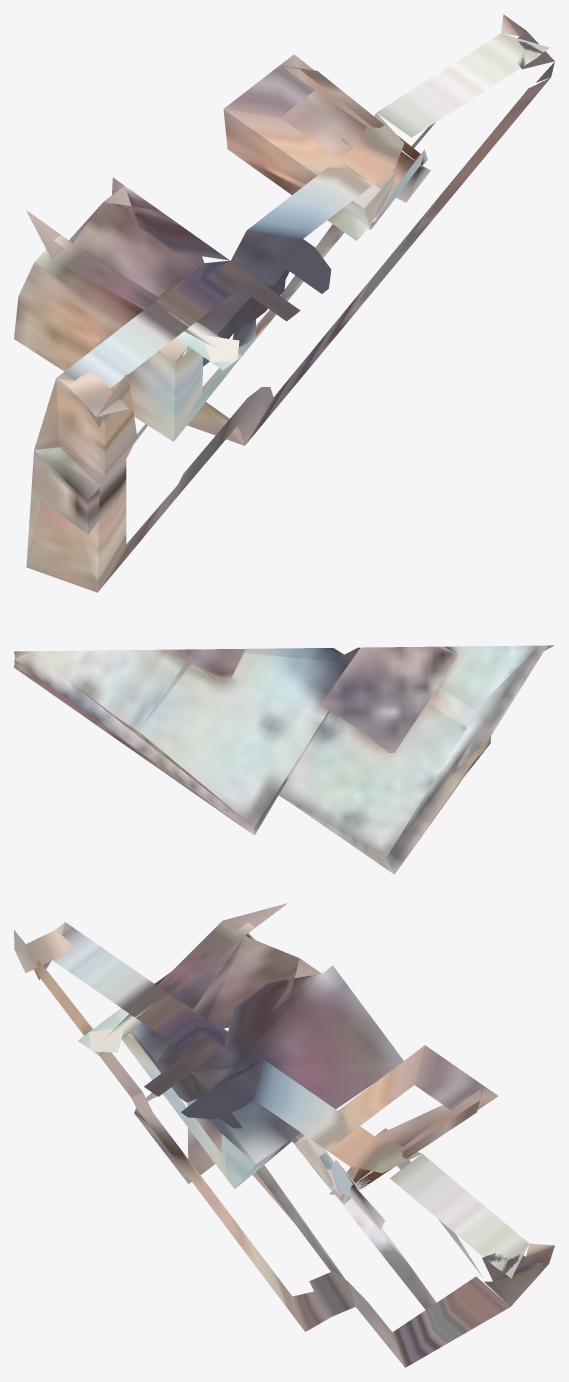
The picture shows the model from 3 angles, top to bottom: view 1: azimuth 30°, elevation 25°; view 2: azimuth 150°, elevation 25°; view 3: azimuth 270°, elevation 25°; orthographic projection. The views are drawn at different scales.
Size of the model in its own units: 35.24 by 18.94 by 23.71.
Materials: 1 (1 with a texture image).
